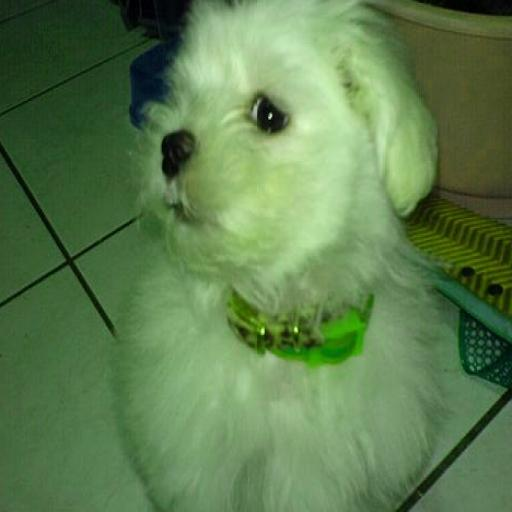dog_face: (143, 9, 412, 263)
